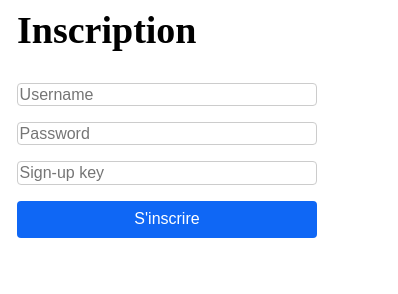
Signup Component › shows an error message if the password is too short
Type "testuser" into the field with placeholder "Username".
click(167, 95); type("testuser")  # box [17,83,317,106]
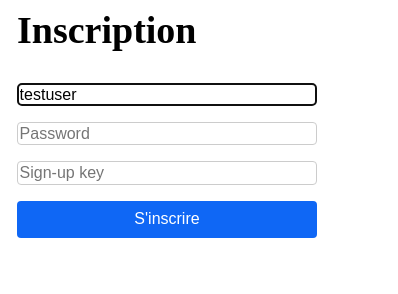
Type "1234567" into the password field with placeholder "Password".
click(167, 134); type("1234567")  # box [17,122,317,146]
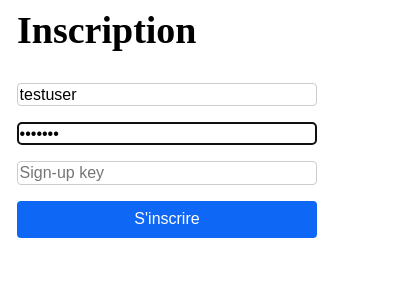
Type "secret-key" into the password field with placeholder "Sign-up key".
click(167, 173); type("secret-key")  # box [17,161,317,185]
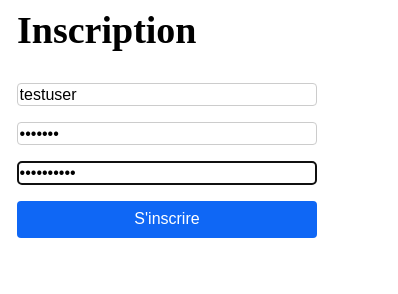
Click the button "S'inscrire".
click(167, 219)  # box [17,201,317,238]
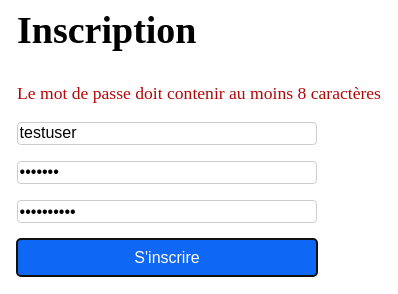
Expected: the text "Le mot de passe doit contenir au moins 8 caractères" is shown, [17,83,381,103]
